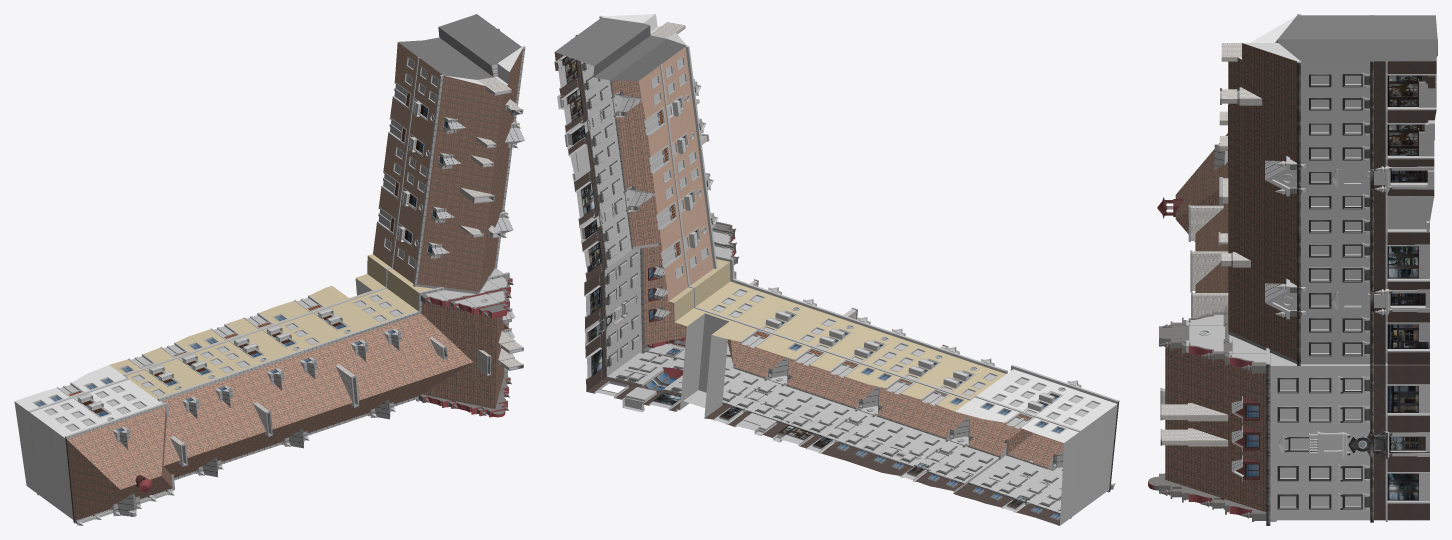
The model's file is Niguliste_2.obj.
The picture shows the model from 3 angles, left to right: view 1: azimuth 30°, elevation 25°; view 2: azimuth 150°, elevation 25°; view 3: azimuth 270°, elevation 25°; orthographic projection. The views are drawn at different scales.
Parts seen in each view (by area): view 1: Niguliste_2; view 2: Niguliste_2; view 3: Niguliste_2.
Boxes of the visible parts, box(x1,y1,x2,y2) form: Niguliste_2: box(14, 14, 525, 525); Niguliste_2: box(554, 14, 1119, 525); Niguliste_2: box(1148, 14, 1437, 525).
Size of the model in its own units: 82.62 by 58.09 by 28.85.
